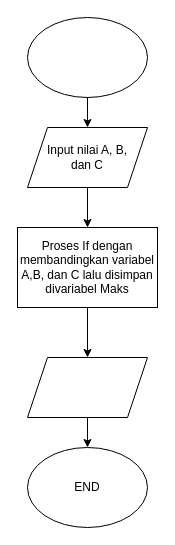
Some shapes in this 175 by 545 pixel diagram are drawn without their labels. Each missing label, with the centre of its shape:
print Maks: (87,387)
START: (87,57)
